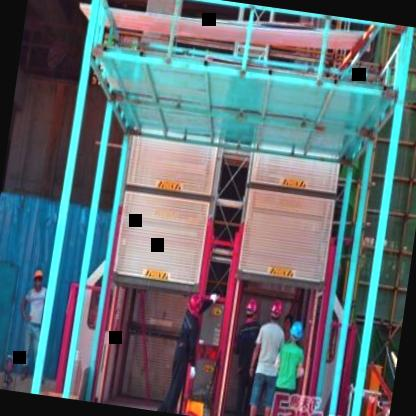helmet: (180, 286, 204, 320), (240, 294, 262, 328), (266, 296, 288, 326), (285, 316, 306, 347), (30, 266, 48, 292)
